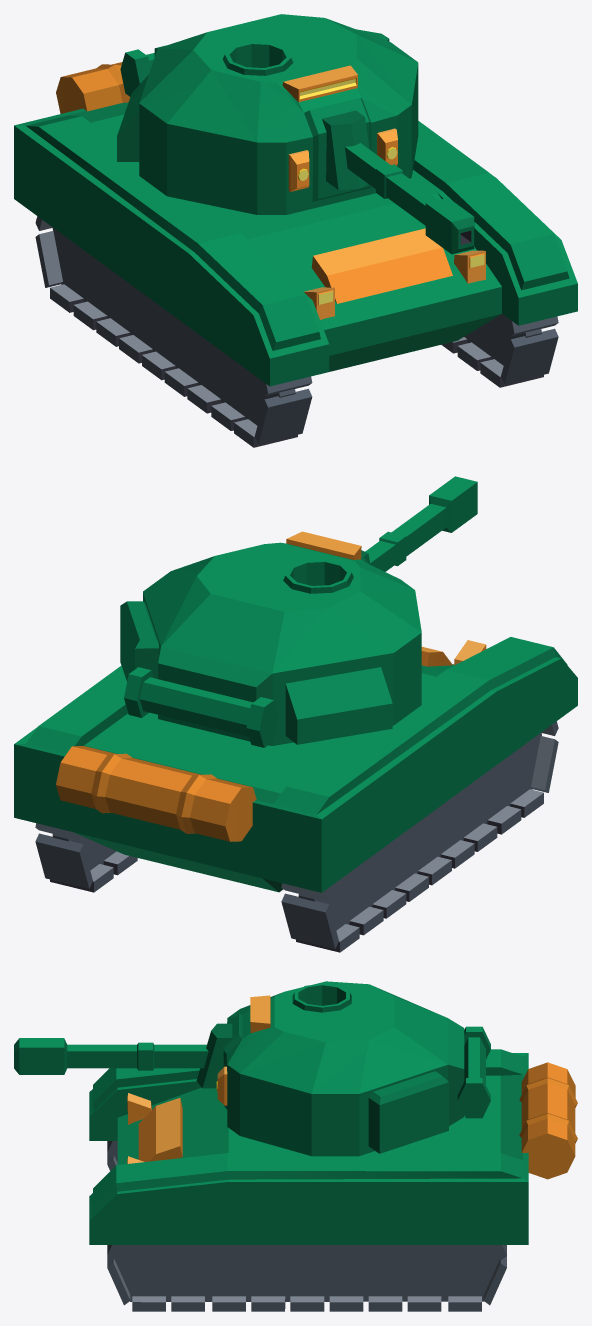
The model's file is Tank.fbx.
3 renders of one model, top to bottom at view 1: azimuth 30°, elevation 25°; view 2: azimuth 150°, elevation 25°; view 3: azimuth 270°, elevation 25°, orthographic. The views are drawn at different scales.
Visible parts, largest first — view 1: Tank, Top, Tie_R, Barrel, Tie_L, Back; view 2: Tank, Top, Tie_R, Back, Barrel, Tie_L; view 3: Tank, Top, Tie_L, Barrel, Back.
Boxes of the visible parts, x1,y1,x2,y2 form: Tank: (14, 102, 577, 386); Top: (117, 14, 418, 214); Tie_R: (35, 216, 312, 447); Barrel: (322, 110, 474, 254); Tie_L: (441, 314, 558, 387); Back: (56, 62, 130, 113); Tank: (14, 637, 577, 892); Top: (120, 531, 421, 747); Tie_R: (281, 721, 558, 952); Back: (56, 746, 256, 841); Barrel: (361, 476, 477, 571); Tie_L: (35, 823, 137, 892); Tank: (89, 1049, 528, 1244); Top: (216, 981, 490, 1156); Tie_L: (107, 1245, 506, 1311); Barrel: (14, 1023, 232, 1088); Back: (519, 1062, 577, 1179).
Size of the model in its own units: 179 by 157 by 331.
